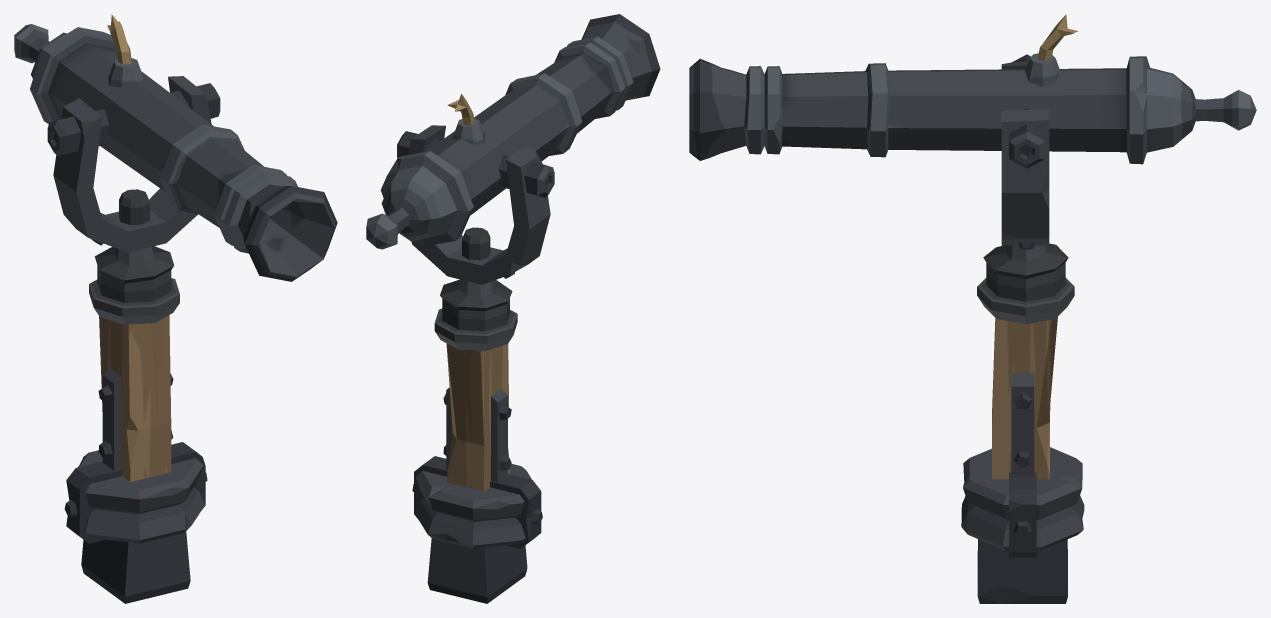
The model's file is SM_Wep_Swivel_Gun_01.fbx.
3 renders of one model, left to right at view 1: azimuth 30°, elevation 25°; view 2: azimuth 150°, elevation 25°; view 3: azimuth 270°, elevation 25°, orthographic. The views are drawn at different scales.
Parts seen in each view (by area): view 1: SM_Wep_Swivel_Gun_01, SM_Wep_Swivel_Gun_01_Cannon_01; view 2: SM_Wep_Swivel_Gun_01, SM_Wep_Swivel_Gun_01_Cannon_01; view 3: SM_Wep_Swivel_Gun_01_Cannon_01, SM_Wep_Swivel_Gun_01.
Part boxes in pixels (<box>): SM_Wep_Swivel_Gun_01: <box>53,76,211,603</box>; SM_Wep_Swivel_Gun_01_Cannon_01: <box>14,14,337,281</box>; SM_Wep_Swivel_Gun_01: <box>408,125,550,603</box>; SM_Wep_Swivel_Gun_01_Cannon_01: <box>366,14,660,249</box>; SM_Wep_Swivel_Gun_01_Cannon_01: <box>689,14,1256,168</box>; SM_Wep_Swivel_Gun_01: <box>961,61,1084,603</box>.
Size of the model in its own units: 42.15 by 138 by 124.
